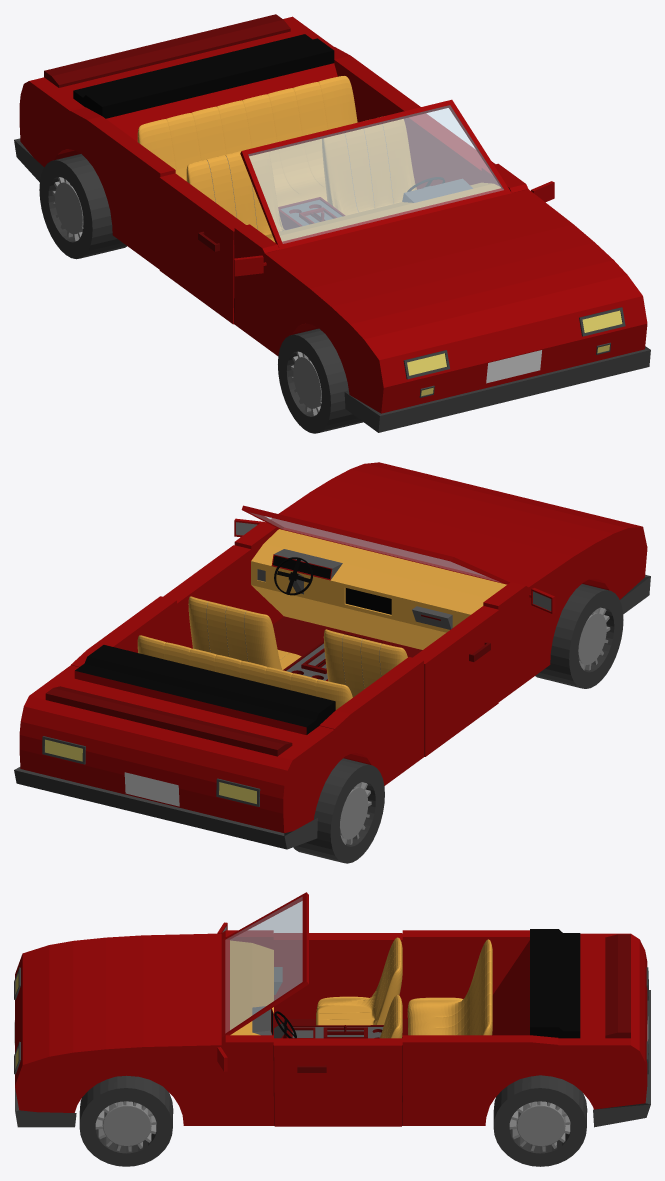
The model's file is MainCar.fbx.
The picture shows the model from 3 angles, top to bottom: view 1: azimuth 30°, elevation 25°; view 2: azimuth 150°, elevation 25°; view 3: azimuth 270°, elevation 25°; orthographic projection. The views are drawn at different scales.
Parts seen in each view (by area): view 1: CarBody, Seats, Tire2, Tire1, CenterConsole, Spoke2, Spoke1, BackLicencePlate.001, BackLicencePlate.003, BackLicencePlate.002; view 2: CarBody, Seats, Tire1, Tire2, Spoke1, Spoke2, BackLicencePlate, CenterConsole, BackLicencePlate.006, BackLicencePlate.007, SteeringWheel; view 3: CarBody, Seats, Tire4, Tire3, Spoke3, Spoke4, CenterConsole.
Part boxes in pixels (bbox=[...]): CarBody: bbox=[14, 14, 650, 432]; Seats: bbox=[137, 76, 416, 235]; Tire2: bbox=[39, 154, 126, 259]; Tire1: bbox=[278, 328, 363, 433]; CenterConsole: bbox=[278, 197, 344, 229]; Spoke2: bbox=[52, 177, 83, 241]; Spoke1: bbox=[291, 351, 321, 415]; BackLicencePlate.001: bbox=[486, 350, 541, 383]; BackLicencePlate.003: bbox=[579, 307, 625, 336]; BackLicencePlate.002: bbox=[403, 350, 449, 379]; CarBody: bbox=[14, 462, 650, 849]; Seats: bbox=[137, 596, 407, 709]; Tire1: bbox=[535, 584, 623, 688]; Tire2: bbox=[293, 758, 384, 863]; Spoke1: bbox=[578, 607, 610, 670]; Spoke2: bbox=[339, 782, 371, 844]; BackLicencePlate: bbox=[124, 772, 179, 806]; CenterConsole: bbox=[283, 631, 382, 681]; BackLicencePlate.006: bbox=[216, 778, 260, 806]; BackLicencePlate.007: bbox=[42, 736, 85, 764]; SteeringWheel: bbox=[274, 557, 312, 595]; CarBody: bbox=[15, 892, 650, 1127]; Seats: bbox=[316, 937, 492, 1038]; Tire4: bbox=[493, 1075, 587, 1166]; Tire3: bbox=[79, 1075, 173, 1166]; Spoke3: bbox=[95, 1101, 156, 1151]; Spoke4: bbox=[509, 1101, 570, 1151]; CenterConsole: bbox=[283, 1025, 383, 1038].
Bounding box in the file's own units: 194 × 112 × 385.
